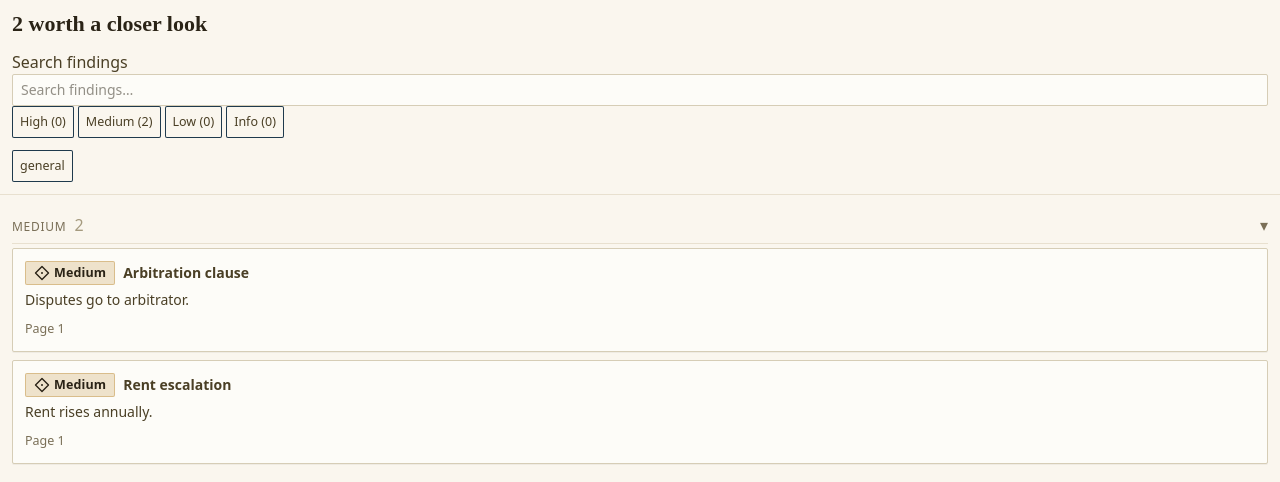
Test case: FindingsPanel › filters findings by search query across title and explanation
The image size is (1280, 482).
Type "arbitr" into the search field labelled "Search findings". click: (640, 90)
box: [12, 74, 1268, 106]
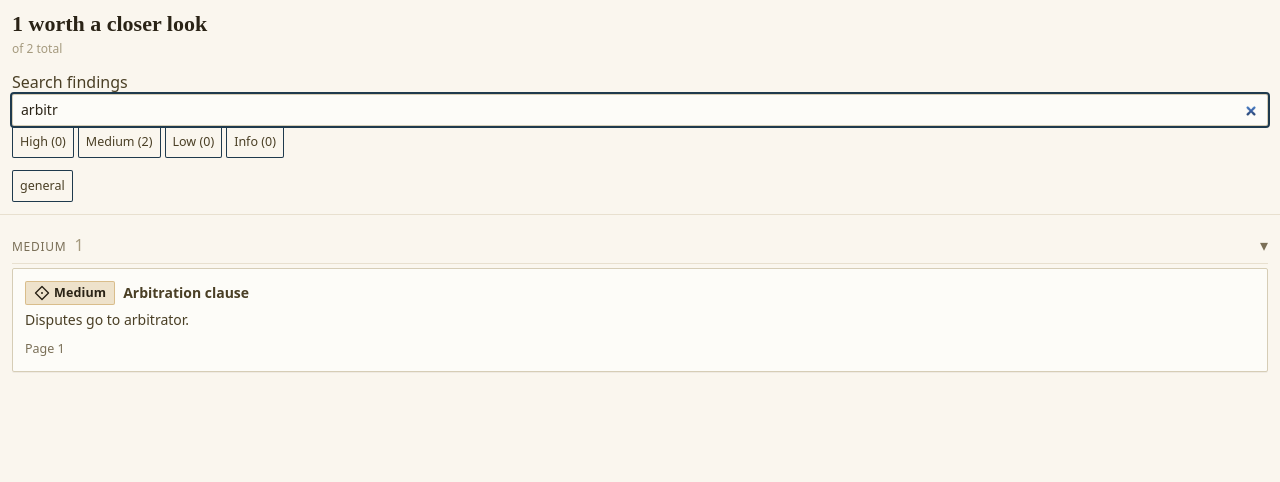
Expected: the text "Arbitration clause" is shown, [123, 282, 249, 304]
Expected: the button "Rent escalation" is gone
